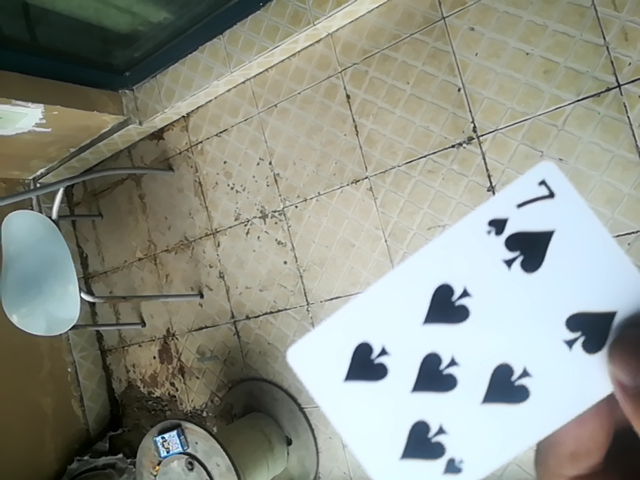ht 7: (280, 161, 640, 480)
